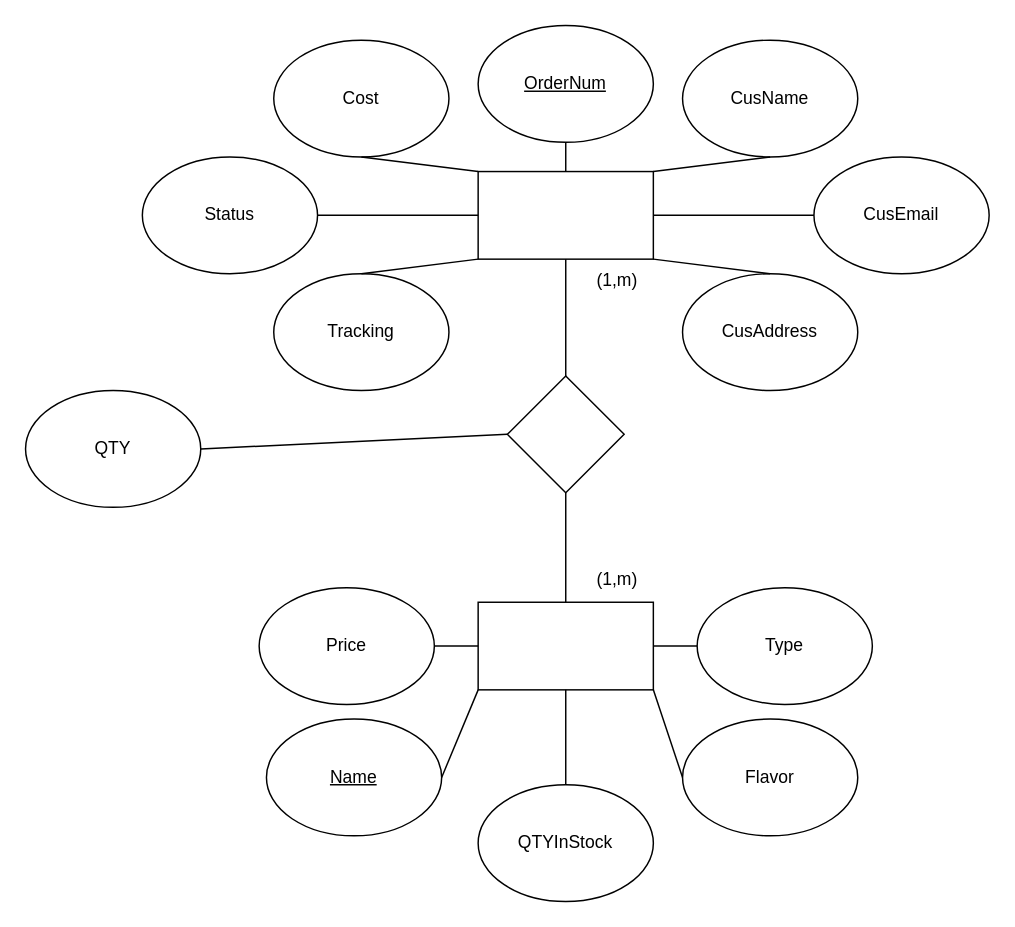
Some shapes in this 1015 by 927 pixel diagram are drawn without their labels. The centre of each missing label's shape, as x and y in pixels:
"Drink" goes at point (565, 645).
"HAS" goes at point (565, 433).
"Order" goes at point (565, 214).
